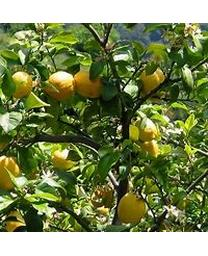lemon: (46, 71, 75, 100), (118, 192, 145, 223), (74, 71, 105, 97), (10, 71, 33, 99)
